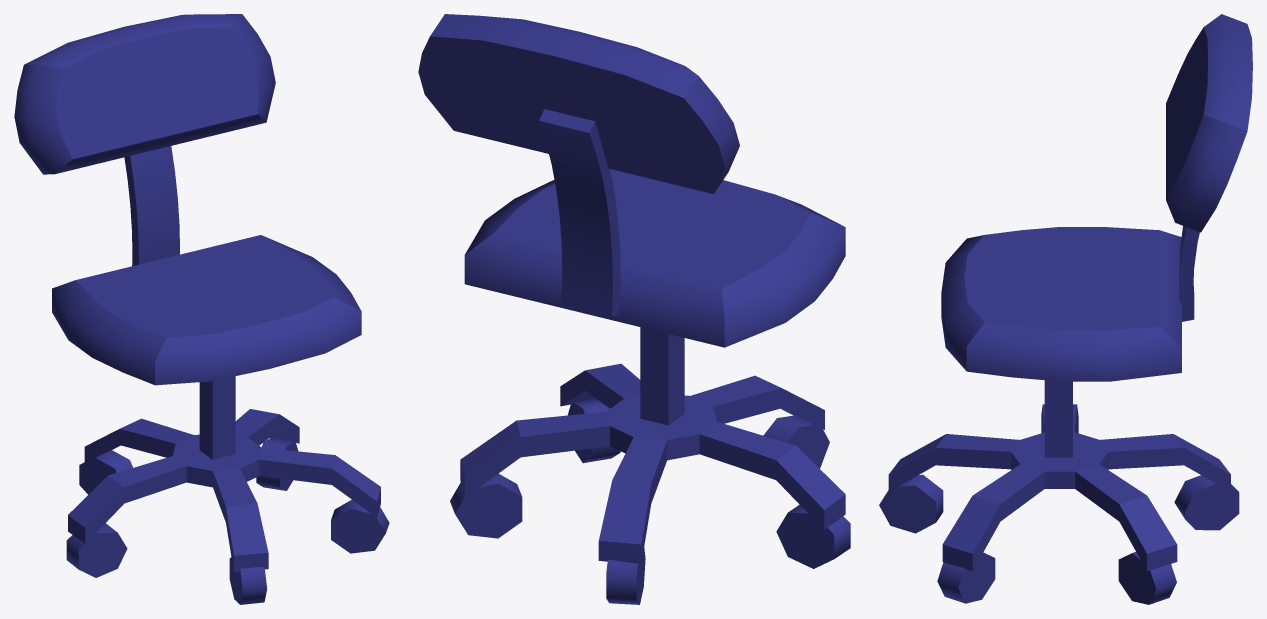
File: chair.fbx
The picture shows the model from 3 angles, left to right: view 1: azimuth 30°, elevation 25°; view 2: azimuth 150°, elevation 25°; view 3: azimuth 270°, elevation 25°; orthographic projection. The views are drawn at different scales.
Visible parts, largest first — view 1: Cylinder002; view 2: Cylinder002; view 3: Cylinder002.
Part boxes in pixels (left/top/right/bottom): Cylinder002: left=14, top=14, right=389, bottom=604; Cylinder002: left=418, top=14, right=850, bottom=604; Cylinder002: left=879, top=14, right=1252, bottom=604.
Bounding box in the file's own units: 9.41 × 15.08 × 10.43.
